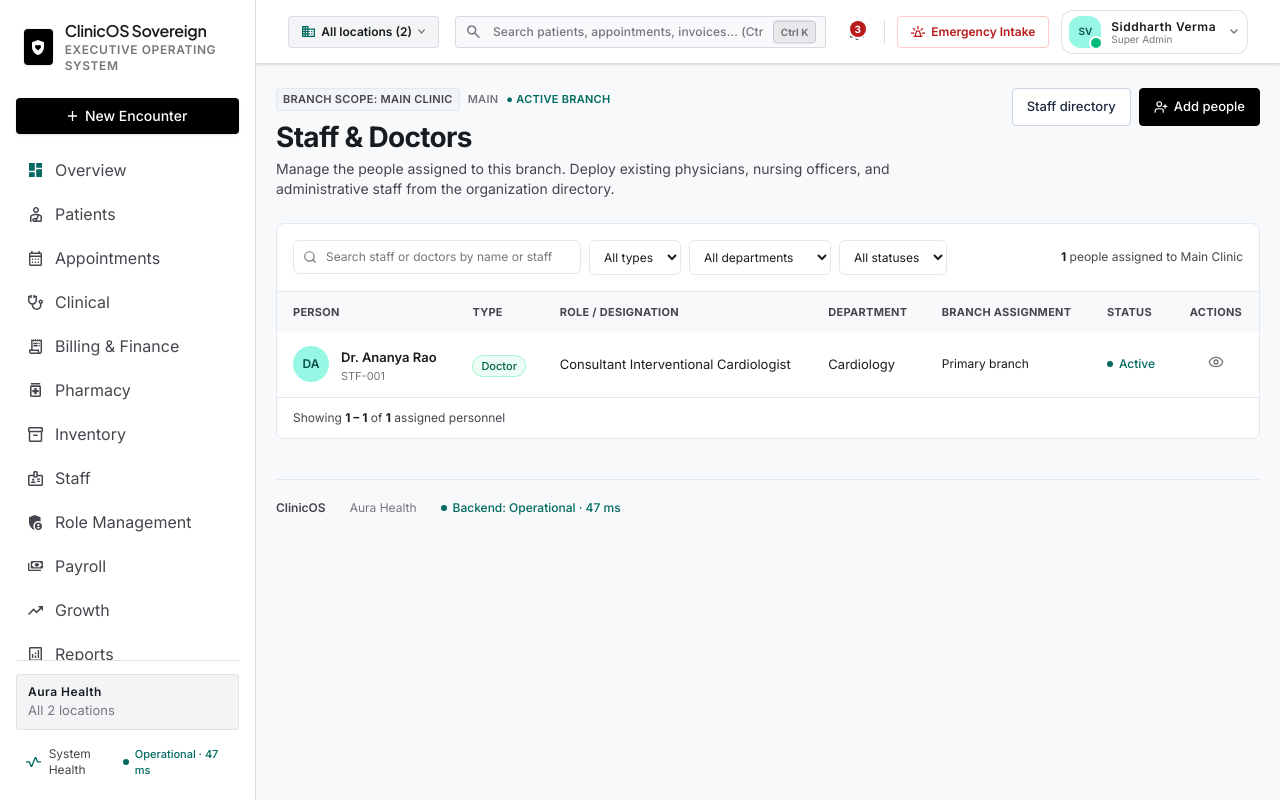
Test: branch staff page › lists the people deployed to the branch and filters them
Check: the link "Dr. Ananya Rao" is shown, box [341,349,437,365]
Type "zzz" into the search field labelled "Search staff".
click(437, 257); type("zzz")  # box [293,240,581,274]
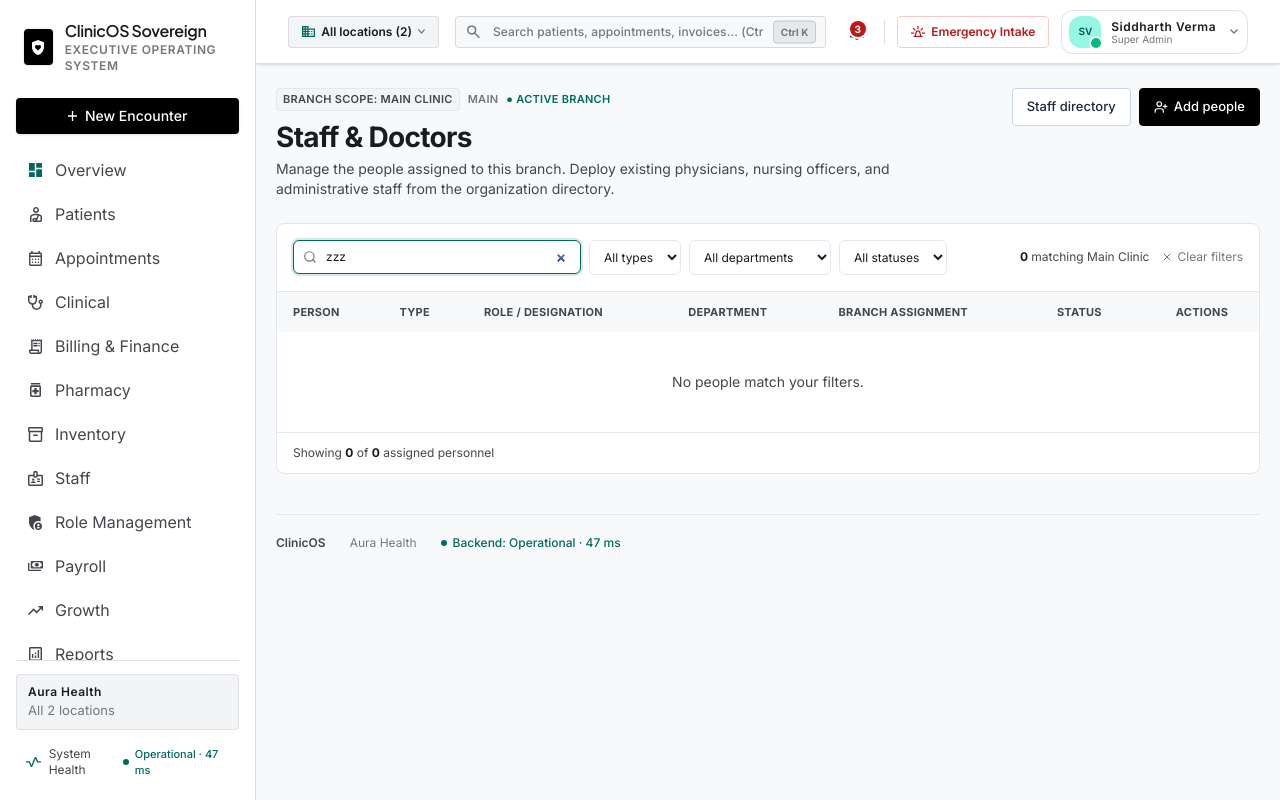
Check: the text "No people match your filters." is shown, box [672,373,864,390]
